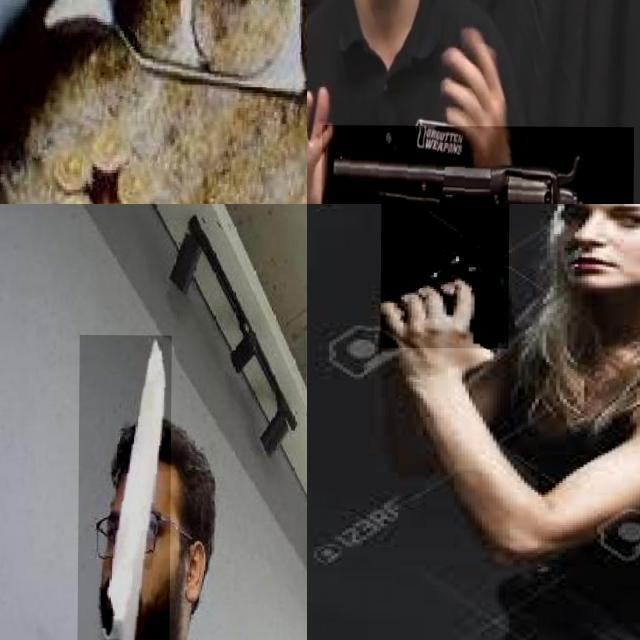-: (77, 335, 172, 640)
gun-knife-thesis - v11 Yolov5 augmented: (0, 0, 307, 204), (321, 124, 634, 204), (381, 204, 510, 348)
